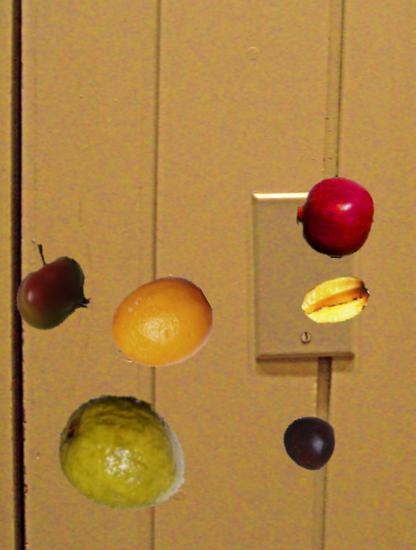Apple: (9, 250, 92, 333)
Carambula: (301, 266, 370, 335)
Chestnut: (284, 416, 339, 471)
Guava: (57, 386, 191, 520)
Lemon: (109, 272, 214, 377)
Pomegranate: (295, 177, 376, 258)
